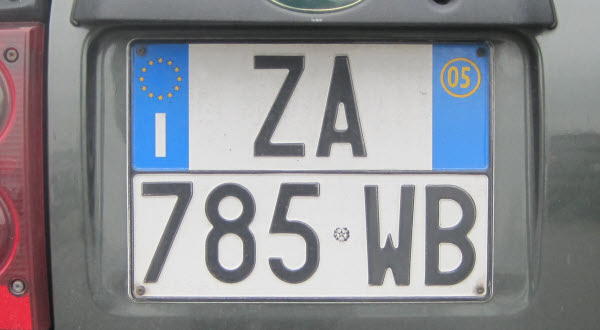license_plate: (125, 37, 492, 299)
